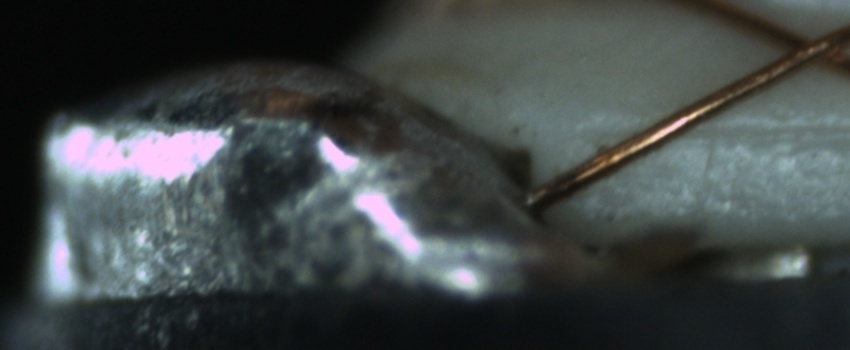CL: (762, 14, 847, 78)
DL: (606, 94, 848, 165)
